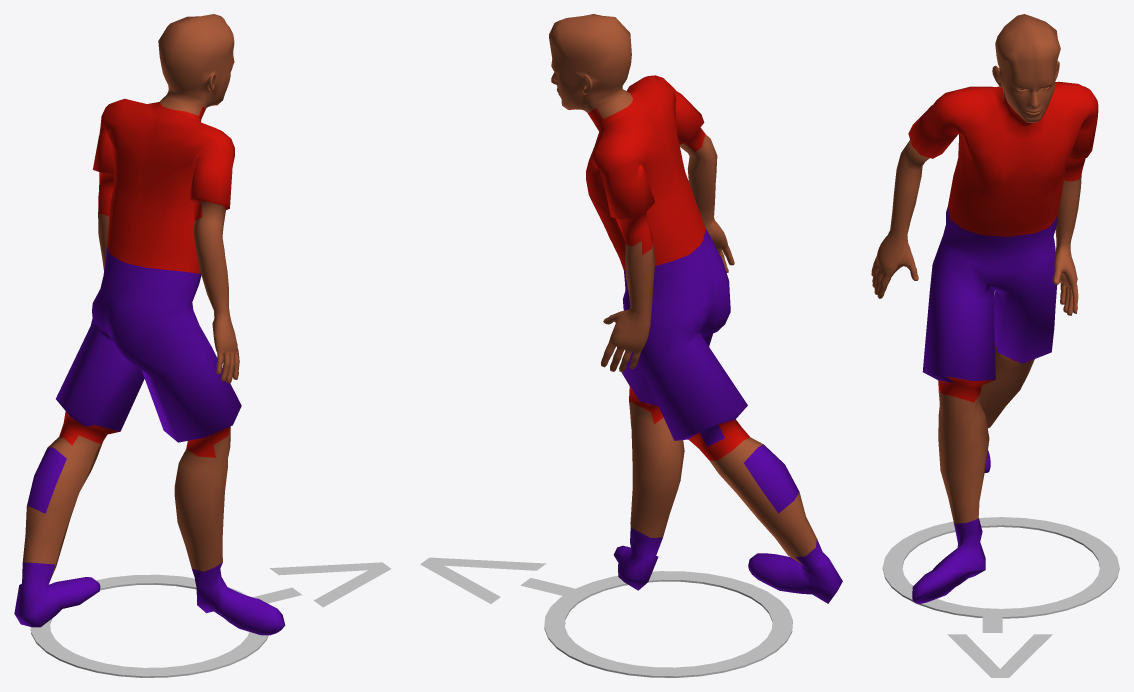
The model's file is player_000026.obj.
3 views of the same model, side by side, from view 1: azimuth 30°, elevation 25°; view 2: azimuth 150°, elevation 25°; view 3: azimuth 270°, elevation 25° (orthographic). The views are drawn at different scales.
Visible parts, largest first — view 1: soccerplayer.002_mesh.003, Circle, Text.001_Mesh.001; view 2: soccerplayer.002_mesh.003, Circle, Text.001_Mesh.001; view 3: soccerplayer.002_mesh.003, Circle, Text.001_Mesh.001.
Boxes of the visible parts, x1=… form: soccerplayer.002_mesh.003: x1=14, y1=14, x2=285, y2=635; Circle: x1=30, y1=574, x2=268, y2=677; Text.001_Mesh.001: x1=253, y1=562, x2=390, y2=607; soccerplayer.002_mesh.003: x1=549, y1=14, x2=842, y2=603; Circle: x1=544, y1=571, x2=792, y2=677; Text.001_Mesh.001: x1=420, y1=557, x2=578, y2=603; soccerplayer.002_mesh.003: x1=871, y1=14, x2=1098, y2=603; Circle: x1=882, y1=517, x2=1119, y2=618; Text.001_Mesh.001: x1=947, y1=610, x2=1052, y2=677.
Size of the model in its own units: 2.01 by 2.91 by 1.14.
